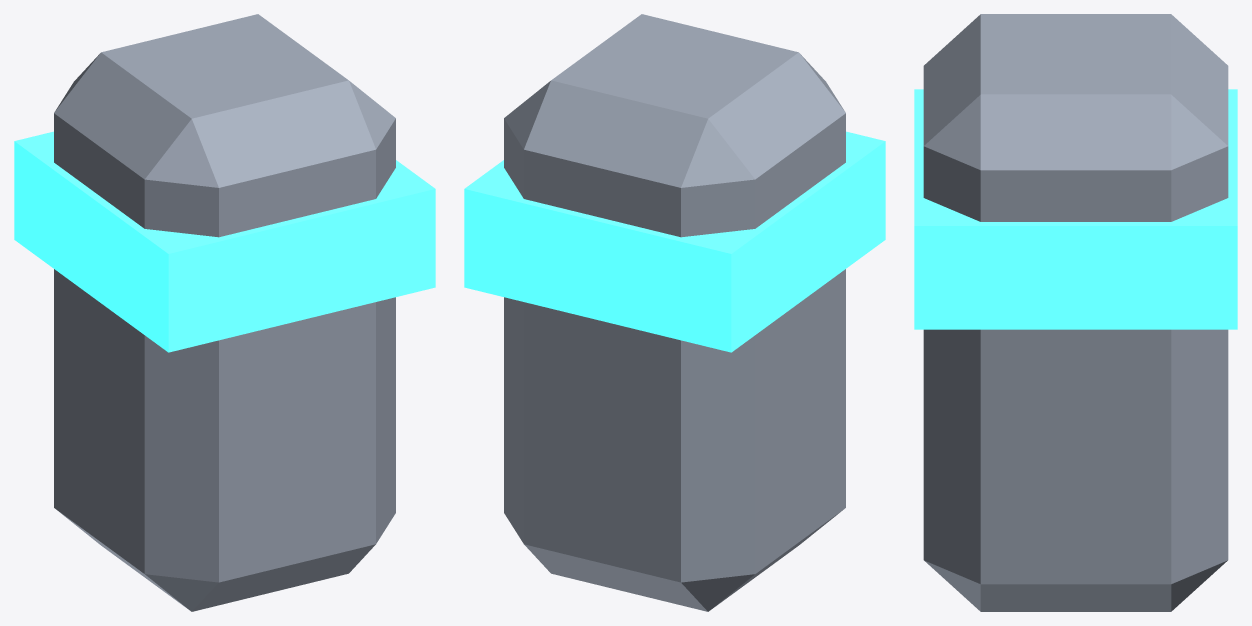
Rendered from energy_battery.glb.
The picture shows the model from 3 angles, left to right: view 1: azimuth 30°, elevation 25°; view 2: azimuth 150°, elevation 25°; view 3: azimuth 270°, elevation 25°; orthographic projection. The views are drawn at different scales.
Parts seen in each view (by area): view 1: energy_battery; view 2: energy_battery; view 3: energy_battery.
Boxes of the visible parts, x1,y1,x2,y2 form: energy_battery: [14, 14, 435, 611]; energy_battery: [464, 14, 885, 611]; energy_battery: [914, 14, 1237, 611].
Size of the model in its own units: 0.17 by 0.3 by 0.17.
